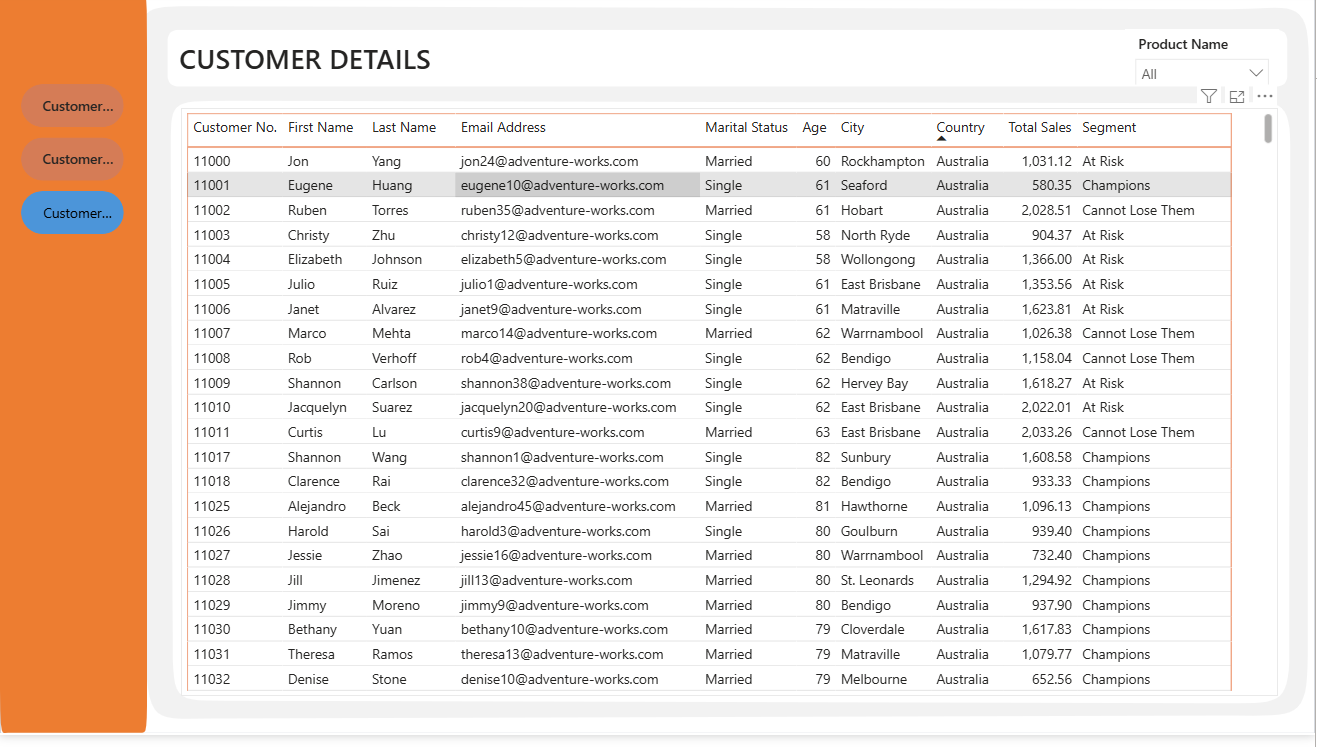

This screenshot's page, from the dashboard's own definition file:
{"tool":"powerbi","page":{"name":"Customer Details","canvas":[1280,720],"ordinal":2},"visuals":[{"type":"textbox","box":[170.3,37.8,330.1,45.7],"z":0},{"type":"tableEx","fields":{"Values":["DimCustomer.CustomerKey","DimCustomer.FirstName","DimCustomer.LastName","DimCustomer.EmailAddress","DimCustomer.MaritalStatus","Sum(DimCustomer.Age)","DimGeography.City","DimGeography.Country","Avg(FactInternetSales.SalesAmount)","Segment Table.Segment"]},"box":[177.4,109.8,1066.8,572.5],"z":1000},{"type":"slicer","fields":{"Values":["DimProduct.Product Name"]},"box":[1094.9,33.4,150.1,53.6],"z":2000},{"type":"pageNavigator","box":[21.4,86.6,100.2,148.8],"z":3000}]}

Visuals, with their boxes in screenshot pixels (x1, y1, x2, y2), scaled from the page's 1280x720 canvas onto the 1317x747 screenshot:
textbox: box(175, 39, 515, 87)
tableEx - DimCustomer.CustomerKey x DimCustomer.FirstName: box(183, 114, 1280, 708)
slicer - DimProduct.Product Name: box(1127, 35, 1281, 90)
pageNavigator: box(22, 90, 125, 244)
